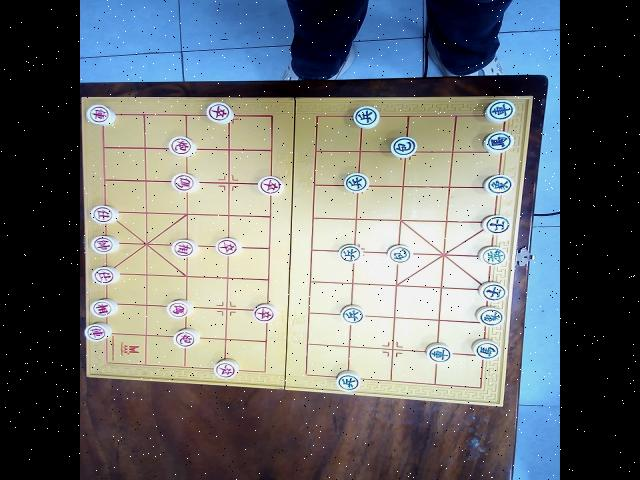piece: (485, 99, 515, 122), (483, 131, 514, 152), (86, 104, 115, 125), (206, 102, 234, 123), (478, 281, 507, 301), (484, 174, 513, 194), (168, 136, 197, 156), (353, 106, 379, 128), (390, 136, 417, 157), (476, 306, 504, 326), (472, 339, 499, 359), (90, 298, 118, 317), (336, 370, 361, 391), (478, 246, 507, 264), (482, 215, 511, 233), (173, 328, 200, 347), (85, 322, 112, 341), (92, 266, 120, 284), (166, 299, 194, 317), (91, 205, 119, 223), (91, 235, 119, 253), (171, 173, 199, 191), (426, 342, 451, 362), (258, 175, 284, 194), (215, 237, 242, 255), (214, 359, 239, 378), (344, 173, 369, 192), (253, 304, 279, 322), (172, 239, 198, 257), (387, 244, 412, 262), (338, 244, 363, 262), (340, 305, 364, 323)
